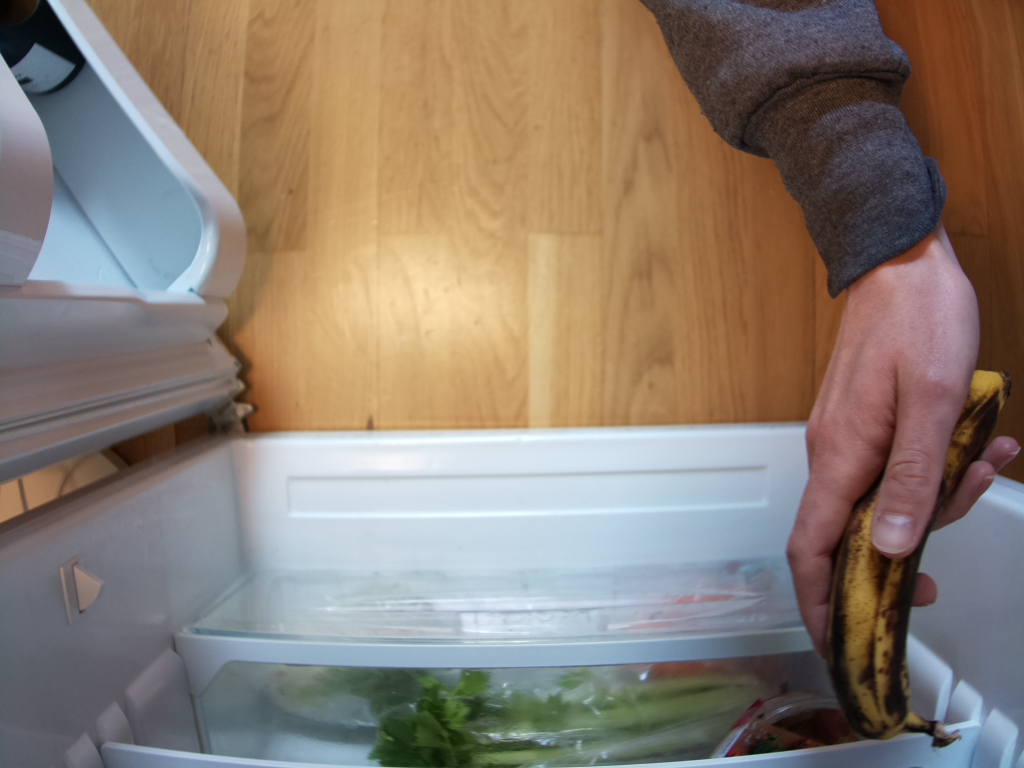banana-overripe: (826, 370, 1008, 749)
